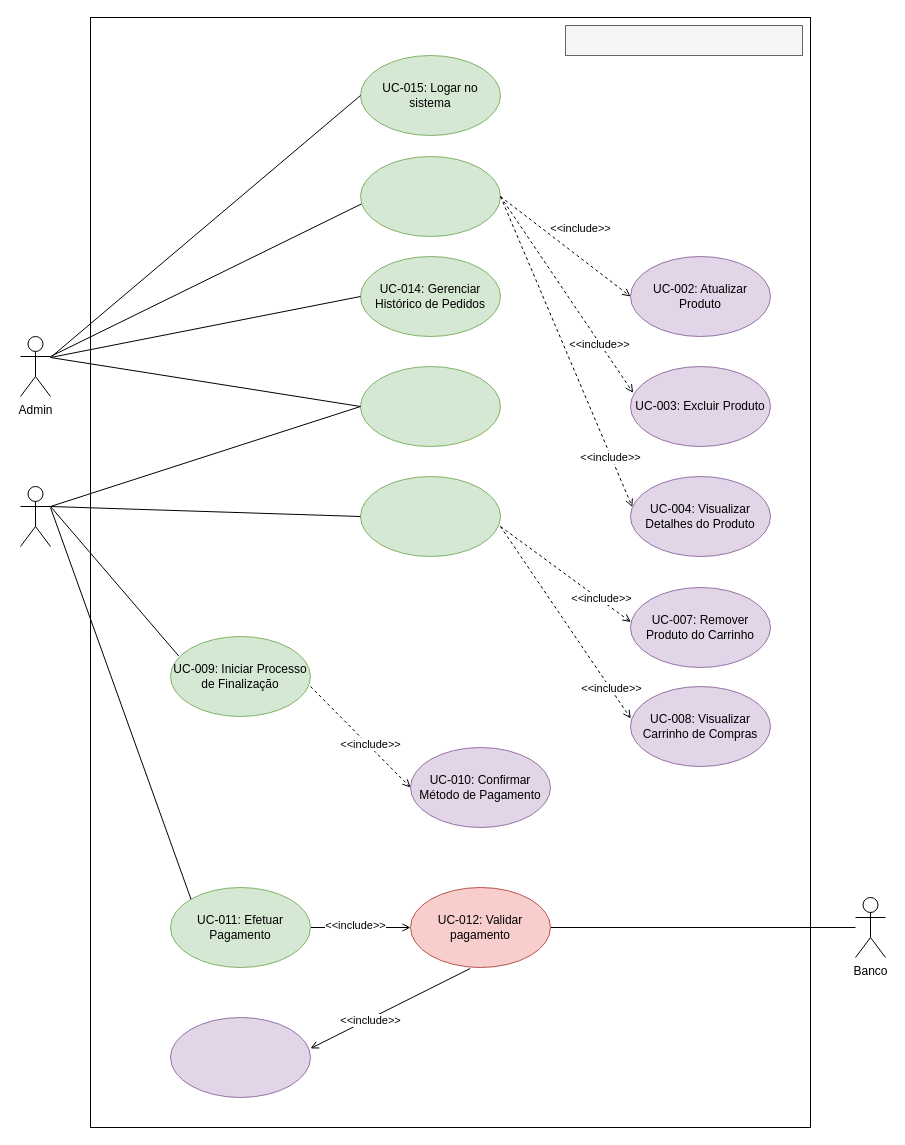
Image size: 905x1145. Some labels were removed from this diagram. Each missing label, with the centre of its shape:
"Cliente" goes at pixel 35 516.
"Sistema de pedidos" goes at pixel 683 40.
"UC-001: Cadastrar Produto" goes at pixel 430 196.
"UC-005: Visualizar Catálogo de Produtos" goes at pixel 430 406.
"UC-006: Adicionar Produto ao Carrinho" goes at pixel 430 516.
"UC-013: Confirmar Pagamento" goes at pixel 240 1057.
